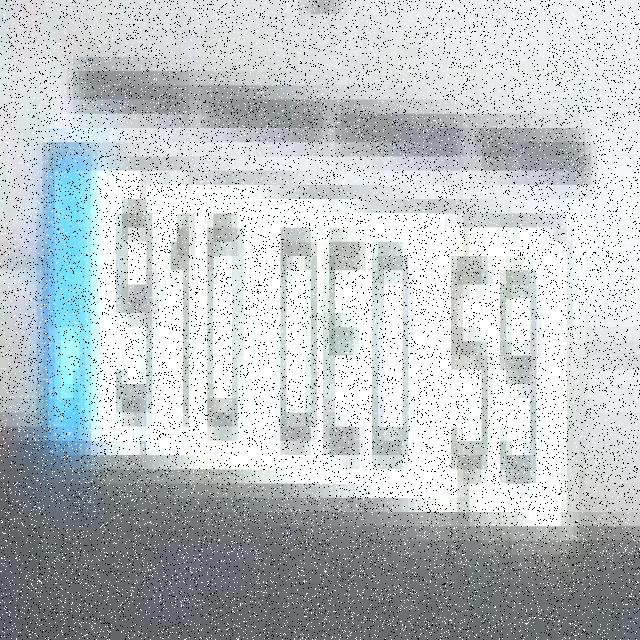licenseplate: (19, 81, 594, 595)
